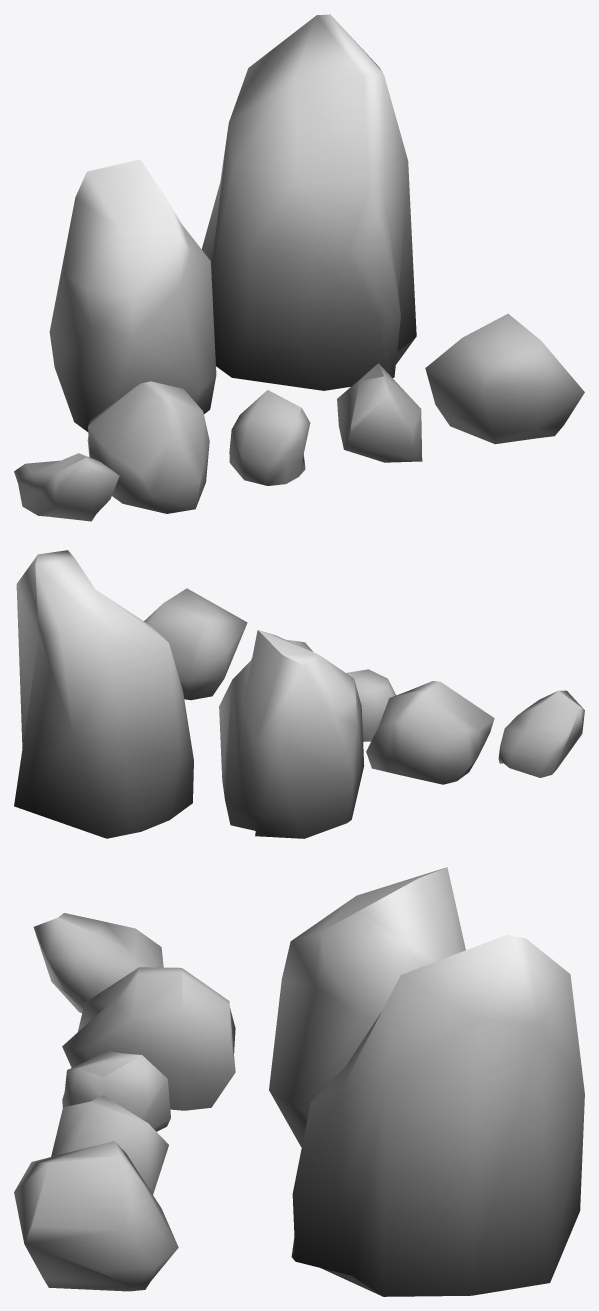
File: FBX_ROCKS.fbx
3 views of the same model, one above another, from view 1: azimuth 30°, elevation 25°; view 2: azimuth 150°, elevation 25°; view 3: azimuth 270°, elevation 25° (orthographic). The views are drawn at different scales.
Visible parts, largest first — view 1: ROCK_5, ROCK_1, ROCK_7, ROCK_3, ROCK_6, ROCK_4, ROCK_2; view 2: ROCK_5, ROCK_1, ROCK_3, ROCK_7, ROCK_2, ROCK_4; view 3: ROCK_5, ROCK_1, ROCK_7, ROCK_3, ROCK_2, ROCK_4, ROCK_6.
Part boxes in pixels (x1,y1,x2,y2): ROCK_5: (201,14,416,390); ROCK_1: (49,159,216,431); ROCK_7: (425,313,584,444); ROCK_3: (87,381,209,513); ROCK_6: (337,363,422,462); ROCK_4: (229,390,310,485); ROCK_2: (14,453,119,521); ROCK_5: (14,550,193,838); ROCK_1: (219,630,364,838); ROCK_3: (366,681,494,784); ROCK_7: (144,588,247,700); ROCK_2: (498,690,584,777); ROCK_4: (346,669,396,741); ROCK_5: (291,935,584,1296); ROCK_1: (269,867,465,1147); ROCK_7: (14,1141,178,1291); ROCK_3: (62,967,235,1110); ROCK_2: (33,913,163,1012); ROCK_4: (62,1051,170,1131); ROCK_6: (51,1095,168,1194).
Bounding box in the file's own units: 59.09 × 31.85 × 46.93.
